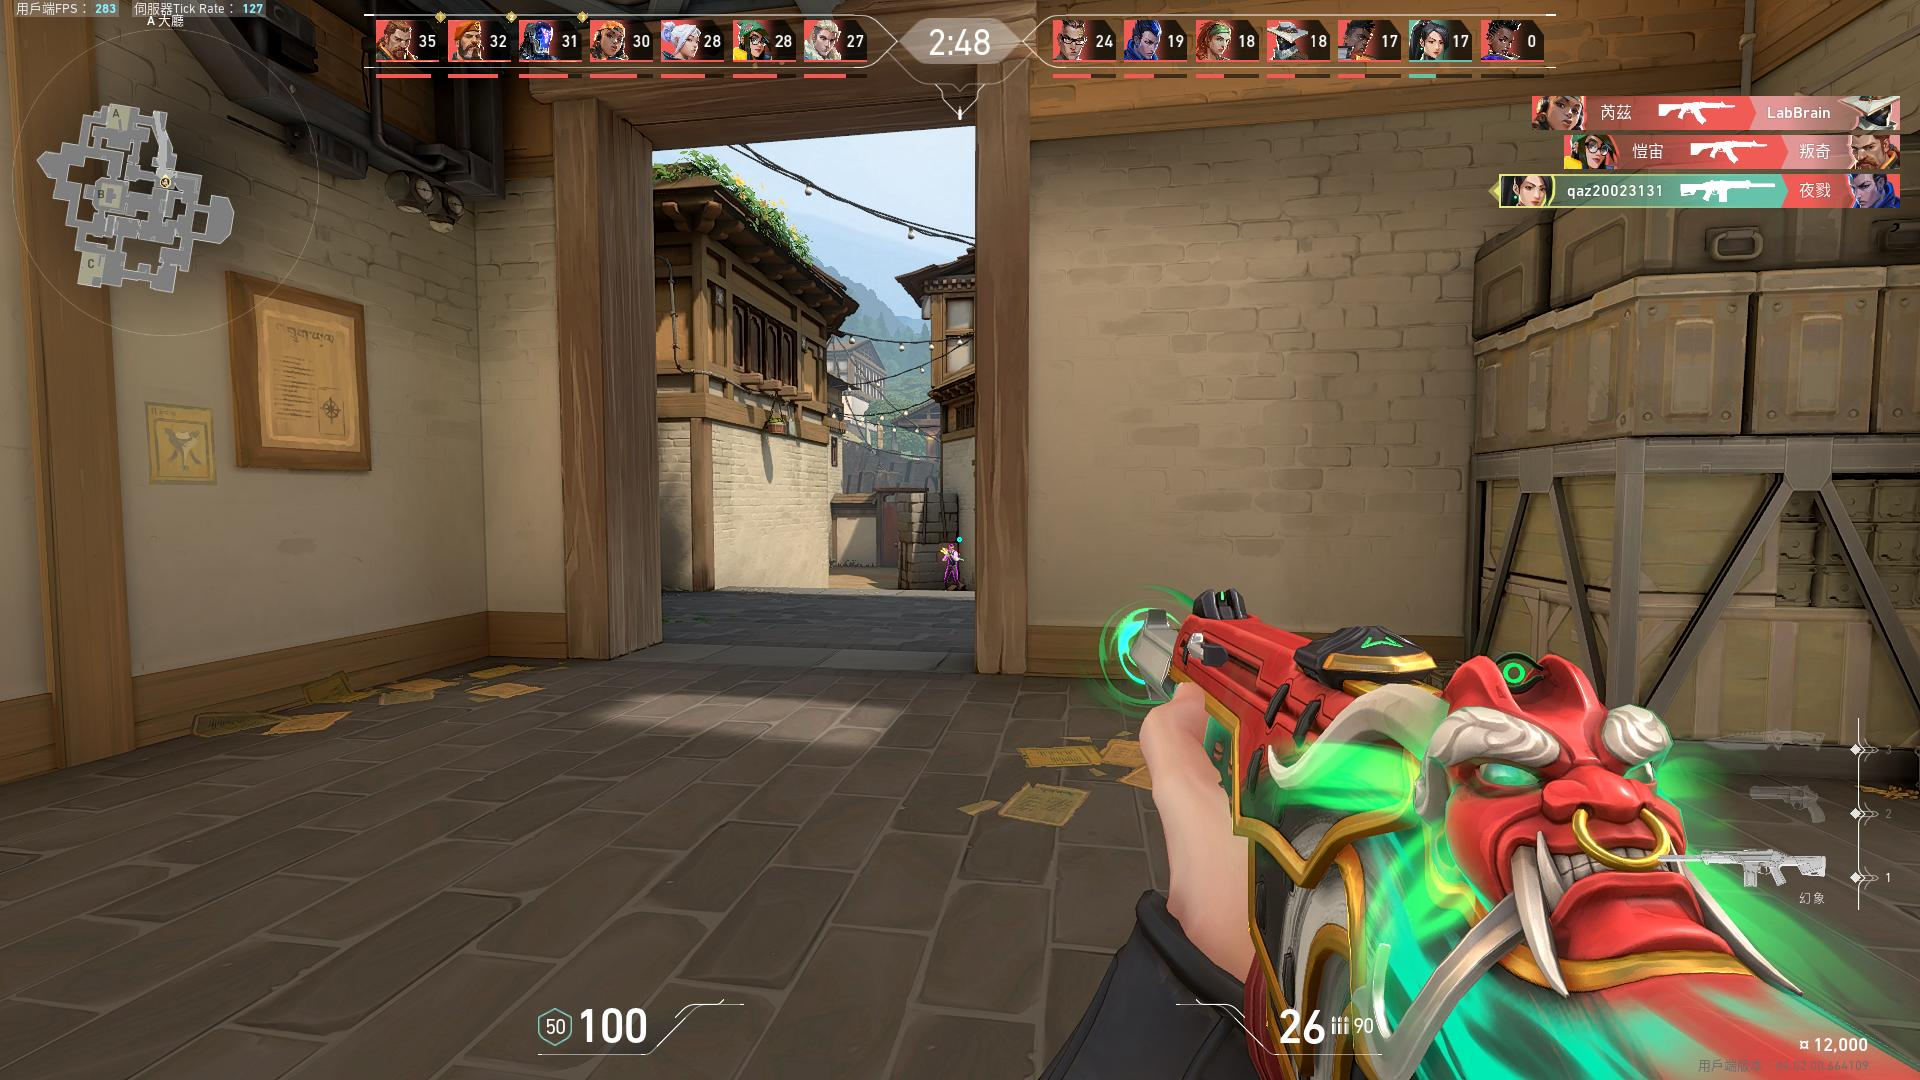enemyBody: (948, 553, 956, 566)
enemyHead: (949, 546, 953, 551)
